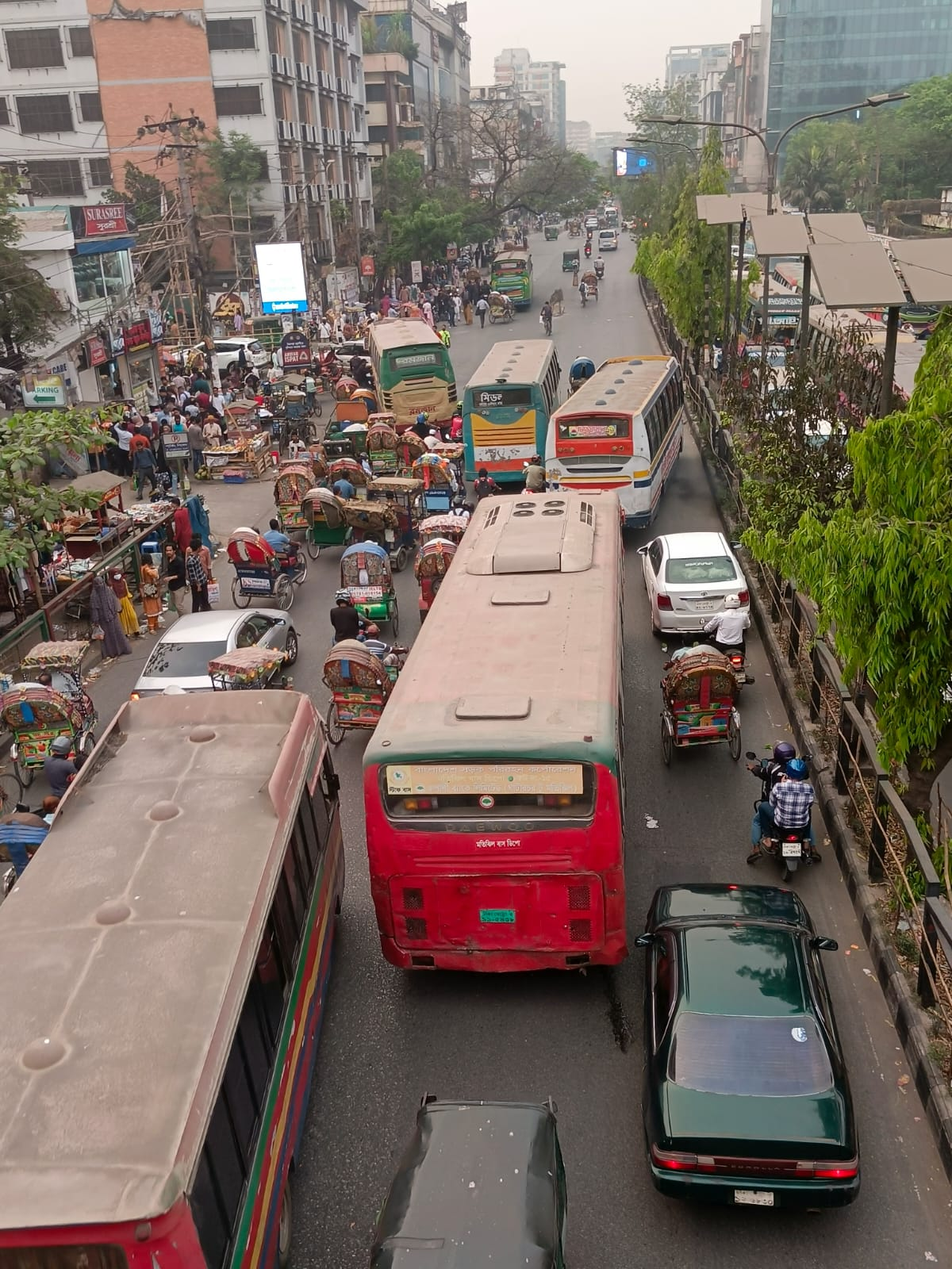Bikes: (745, 740, 826, 889)
Bus: (8, 683, 341, 1269), (377, 493, 658, 1009)
auto-ricksaw: (647, 642, 750, 771), (228, 517, 307, 609), (332, 538, 405, 637)
private car: (647, 858, 867, 1234), (139, 600, 304, 688), (635, 526, 757, 641)
